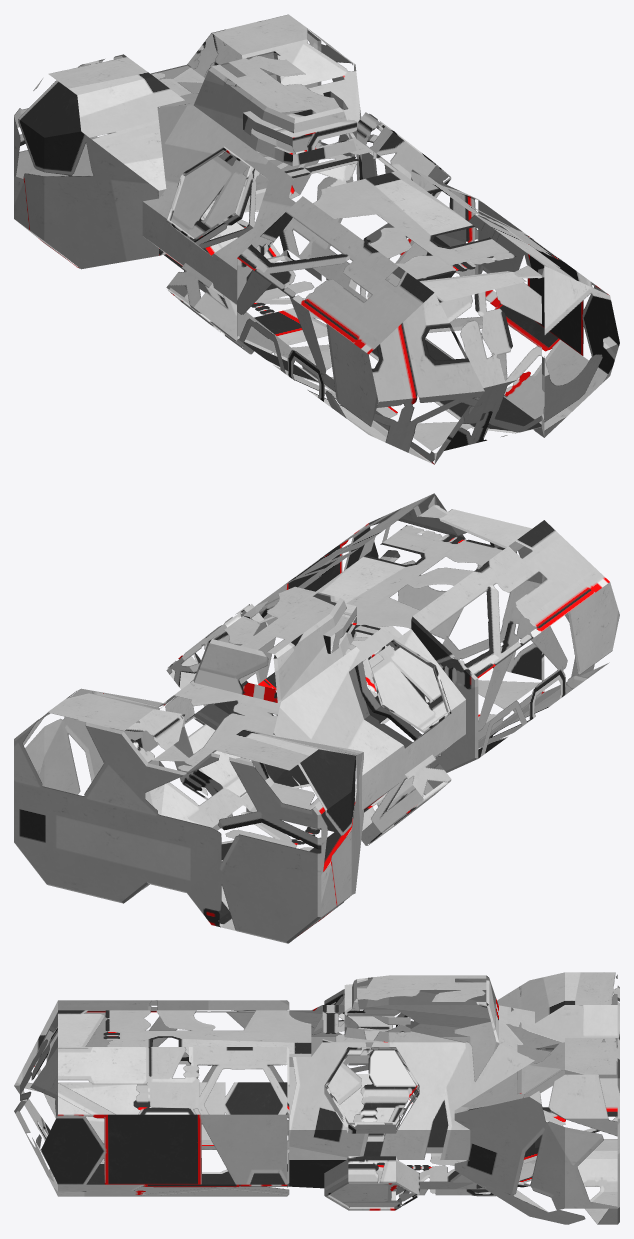
File: Lantock_colider.fbx
3 renders of one model, top to bottom at view 1: azimuth 30°, elevation 25°; view 2: azimuth 150°, elevation 25°; view 3: azimuth 270°, elevation 25°, orthographic. The views are drawn at different scales.
Visible parts, largest first — view 1: Colider_01, Colider_02, Colider_05, Colider_04, Colider_09, Colider_10, Colider_07, Colider_03, Colider_08; view 2: Colider_02, Colider_01, Colider_05, Colider_04, Colider_09, Colider_08, Colider_10, Colider_07, Colider_03; view 3: Colider_01, Colider_02, Colider_05, Colider_04, Colider_07, Colider_08, Colider_10, Colider_09, Colider_03.
Boxes of the visible parts, <box> form: Colider_01: <box>237,169,619,464</box>; Colider_02: <box>14,14,361,269</box>; Colider_05: <box>142,93,465,355</box>; Colider_04: <box>193,51,356,166</box>; Colider_09: <box>166,146,265,256</box>; Colider_10: <box>166,263,253,354</box>; Colider_07: <box>357,112,451,197</box>; Colider_03: <box>243,91,356,154</box>; Colider_08: <box>349,223,427,299</box>; Colider_02: <box>14,688,363,943</box>; Colider_01: <box>246,493,619,772</box>; Colider_05: <box>142,613,465,861</box>; Colider_04: <box>193,586,356,702</box>; Colider_09: <box>349,638,451,748</box>; Colider_08: <box>174,703,268,799</box>; Colider_10: <box>361,754,451,845</box>; Colider_07: <box>166,604,267,689</box>; Colider_03: <box>243,600,356,653</box>; Colider_01: <box>14,1000,289,1196</box>; Colider_02: <box>454,972,619,1224</box>; Colider_05: <box>289,1005,564,1196</box>; Colider_04: <box>344,975,498,1042</box>; Colider_07: <box>324,1047,419,1133</box>; Colider_08: <box>324,1156,419,1210</box>; Colider_10: <box>329,1063,415,1141</box>; Colider_09: <box>324,989,419,1040</box>; Colider_03: <box>344,984,410,1032</box>.
Size of the model in its own units: 280 by 550 by 192.
Materials: 1 (1 with a texture image).
